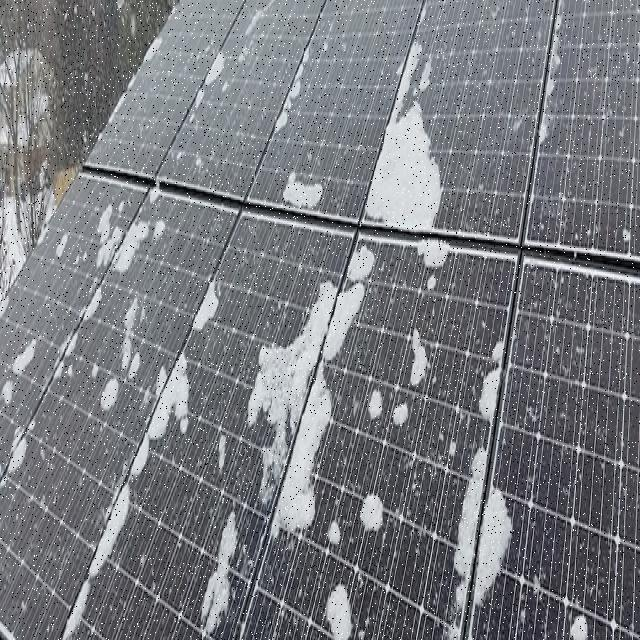snow covered: (66, 0, 559, 640)
